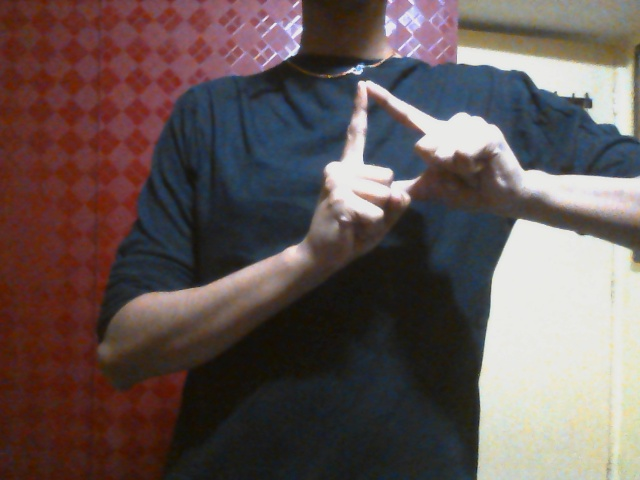D: (310, 81, 522, 261)
